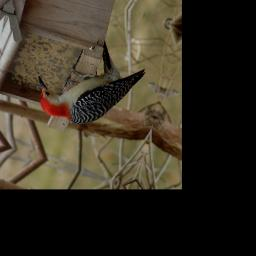Woodpecker: (27, 29, 146, 144)
